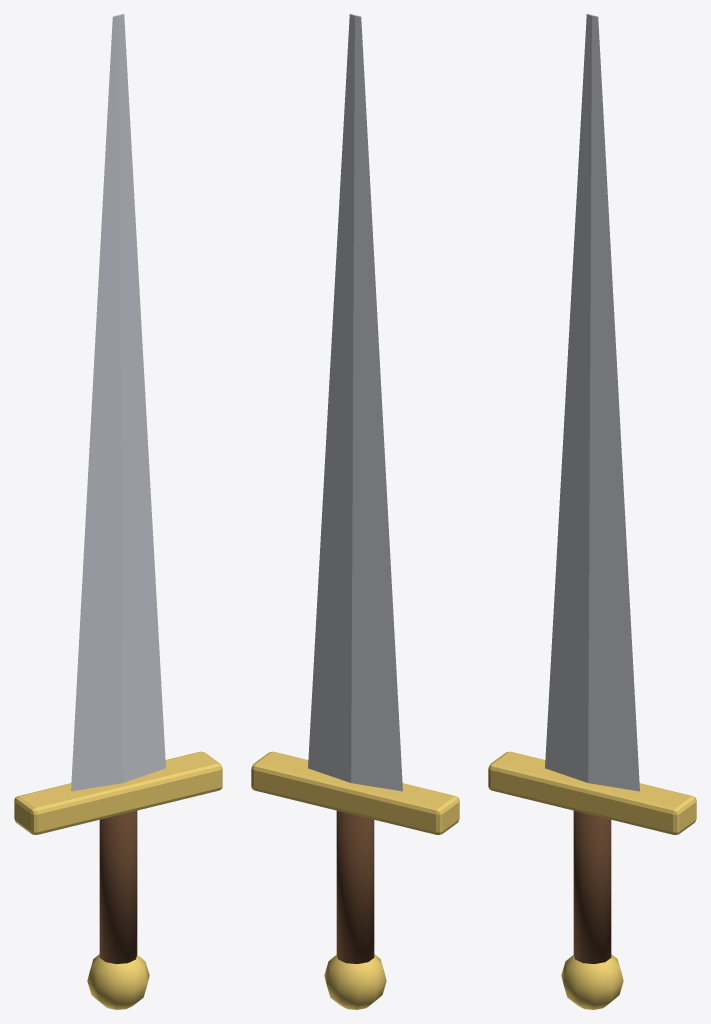
File: silvered-longsword.glb
The picture shows the model from 3 angles, left to right: view 1: azimuth 30°, elevation 25°; view 2: azimuth 150°, elevation 25°; view 3: azimuth 330°, elevation 25°; orthographic projection.
Visible parts, largest first — view 1: silvered-longsword; view 2: silvered-longsword; view 3: silvered-longsword.
Boxes of the visible parts, x1,y1,x2,y2 form: silvered-longsword: [14, 14, 222, 1009]; silvered-longsword: [251, 14, 459, 1009]; silvered-longsword: [488, 14, 696, 1009].
Size of the model in its own units: 0.52 by 2.57 by 0.15.
